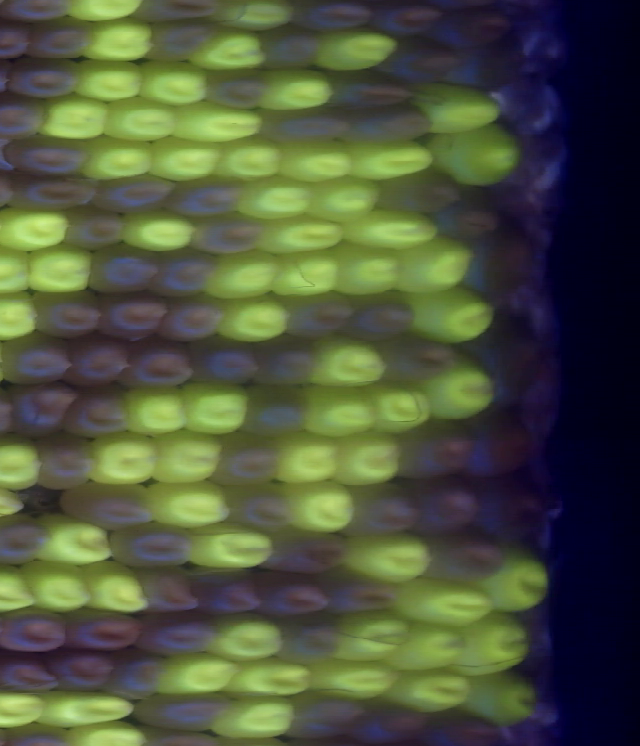fluorescent: (419, 117, 526, 190), (404, 73, 505, 142), (386, 573, 498, 635), (415, 352, 504, 428), (337, 525, 435, 593), (451, 608, 540, 681), (406, 282, 501, 348), (380, 617, 475, 680), (303, 328, 393, 394), (480, 543, 558, 618), (32, 681, 140, 735), (200, 245, 292, 308), (393, 234, 482, 299), (327, 605, 417, 669), (205, 688, 306, 744), (459, 666, 549, 728), (147, 645, 248, 700), (299, 379, 384, 444), (149, 477, 239, 538), (225, 653, 328, 706), (81, 423, 162, 490), (34, 508, 121, 570), (175, 372, 256, 438), (184, 516, 277, 573), (305, 22, 402, 76), (303, 654, 405, 705), (204, 605, 289, 666), (331, 237, 411, 301), (283, 475, 363, 539), (247, 62, 340, 117), (212, 289, 298, 348), (343, 204, 446, 253), (252, 211, 355, 260), (150, 424, 227, 489), (15, 557, 101, 615), (341, 134, 440, 184), (187, 23, 277, 78), (385, 661, 470, 719), (76, 558, 154, 620), (333, 431, 412, 492), (129, 53, 212, 111), (172, 95, 266, 146), (303, 168, 385, 225), (75, 14, 161, 68), (116, 203, 202, 257), (118, 379, 194, 440), (234, 173, 320, 226), (268, 246, 345, 305), (362, 377, 434, 440), (268, 430, 345, 488), (100, 91, 181, 145), (80, 133, 161, 186), (36, 88, 111, 145), (0, 204, 77, 259), (276, 135, 355, 188), (149, 134, 229, 186), (69, 54, 147, 105), (212, 134, 287, 182), (204, 1, 301, 36), (0, 430, 46, 501), (0, 283, 45, 345), (0, 683, 53, 735), (0, 557, 43, 616), (61, 1, 152, 28), (0, 240, 41, 299), (0, 470, 31, 528)
nonfluorescent: (462, 308, 544, 406), (459, 213, 542, 305), (417, 525, 515, 598), (468, 472, 551, 555), (383, 416, 477, 488), (459, 403, 539, 485), (53, 476, 162, 535), (260, 522, 359, 586), (131, 684, 245, 737), (441, 29, 535, 92), (316, 64, 415, 122), (312, 563, 407, 623), (336, 479, 423, 544), (331, 100, 441, 151), (0, 372, 81, 441), (374, 34, 467, 94), (205, 425, 289, 491), (369, 166, 466, 223), (398, 474, 483, 539), (58, 601, 149, 661), (57, 326, 137, 394), (0, 327, 82, 393), (277, 286, 361, 350), (102, 518, 201, 572), (247, 565, 334, 626), (85, 165, 182, 219), (282, 685, 369, 745), (233, 375, 311, 441), (128, 607, 218, 664), (91, 285, 176, 345), (187, 332, 272, 392), (371, 335, 462, 391), (142, 12, 223, 74), (115, 336, 200, 395), (175, 205, 266, 260), (25, 433, 107, 494), (5, 167, 104, 217), (84, 240, 165, 301), (158, 169, 252, 221), (427, 180, 501, 246), (188, 566, 273, 623), (24, 286, 110, 342), (257, 103, 357, 151), (250, 331, 329, 390), (147, 242, 221, 304), (134, 563, 208, 625), (3, 52, 87, 106), (348, 694, 434, 746), (58, 382, 134, 440), (270, 610, 345, 668), (4, 134, 98, 180), (100, 642, 165, 708), (342, 288, 418, 344), (432, 1, 515, 52), (59, 200, 133, 257), (222, 477, 292, 537), (44, 646, 122, 699), (155, 290, 229, 345), (0, 600, 72, 656), (413, 704, 509, 746), (198, 64, 274, 117), (255, 22, 326, 76), (0, 645, 67, 700), (0, 508, 57, 572), (292, 1, 387, 38), (365, 1, 445, 43), (131, 1, 228, 29), (0, 92, 52, 144), (0, 1, 76, 30), (0, 17, 35, 69)
